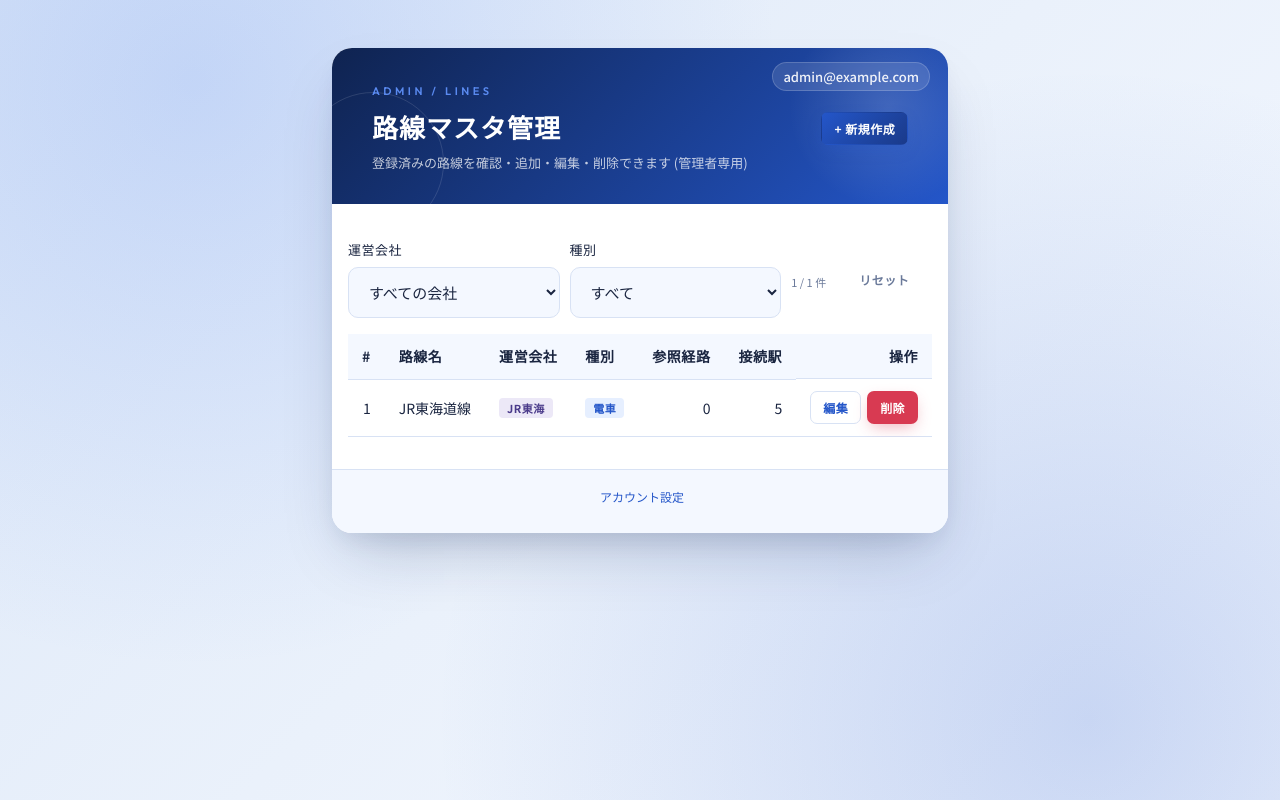
Test: AdminLines › 削除: 確認 OK + 204 → reload + 成功バナー
expect the text "JR東海道線" is shown: met, box [385,379,485,436]
Click the button with aria-label "路線「JR東海道線」を削除" at (893, 408), box [867,391,918,424]
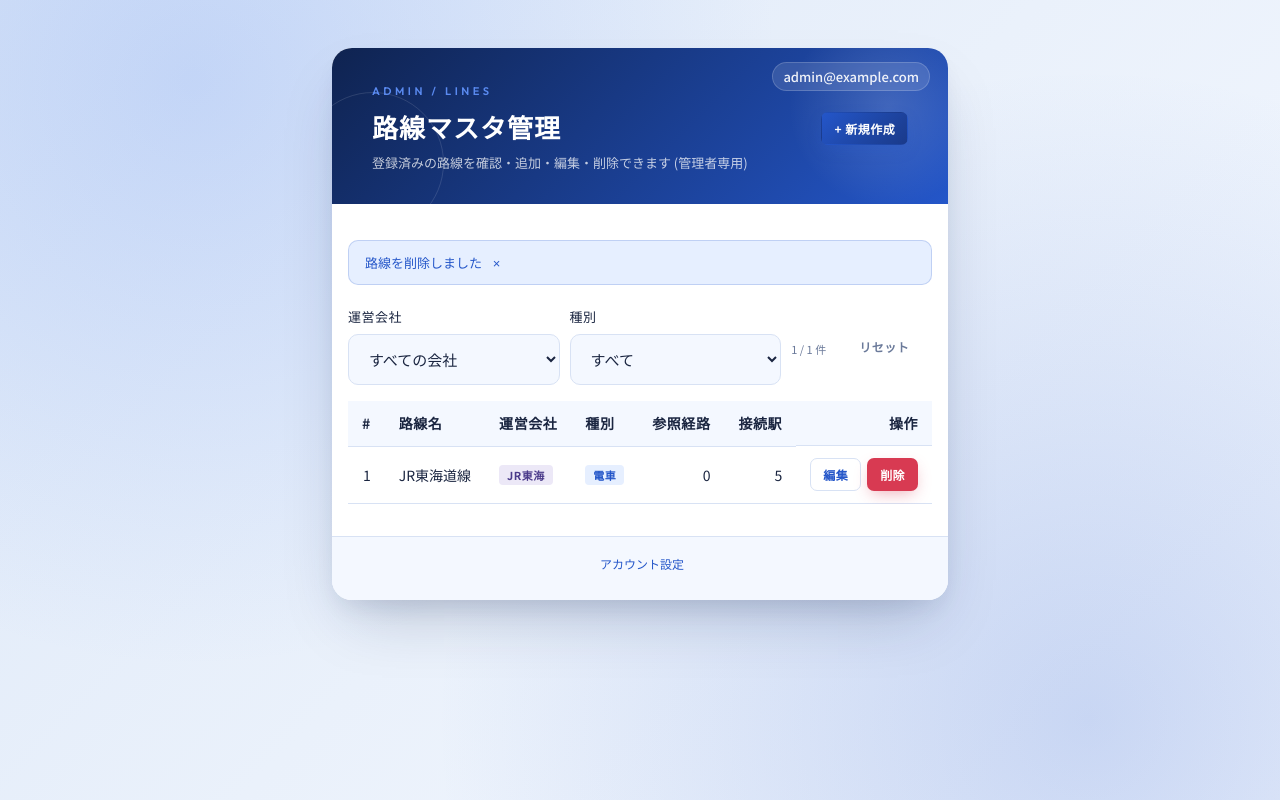
expect the text "路線を削除しました" is shown: met, box [365,253,482,272]
